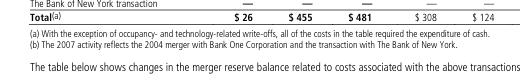table: (28, 28, 489, 49)
table column: (39, 28, 489, 49), (28, 28, 39, 49)
table row: (28, 28, 489, 39), (28, 39, 489, 49)
